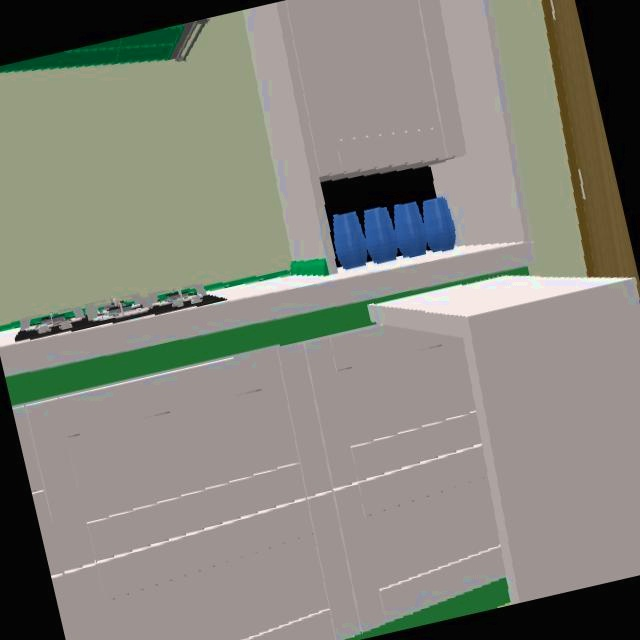cabinet: (12, 324, 504, 640)
countertop: (0, 244, 535, 406)
stove: (15, 285, 222, 340)
